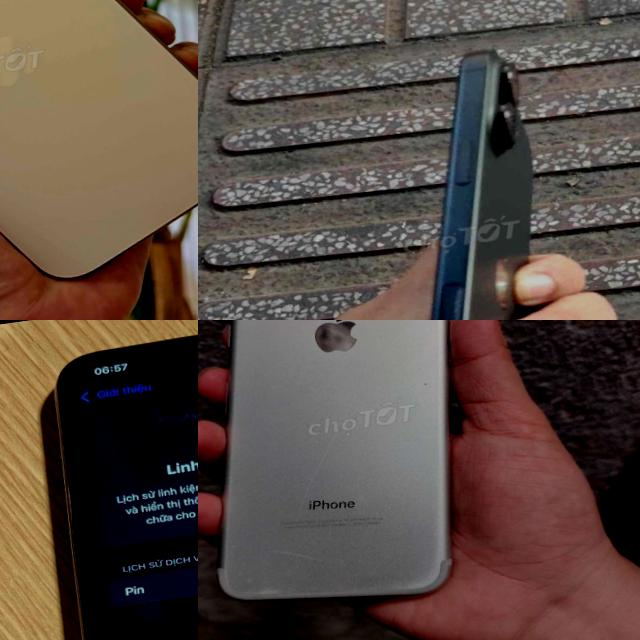scratch: (266, 351, 394, 514), (255, 530, 348, 576), (55, 372, 85, 426), (249, 578, 291, 602)
